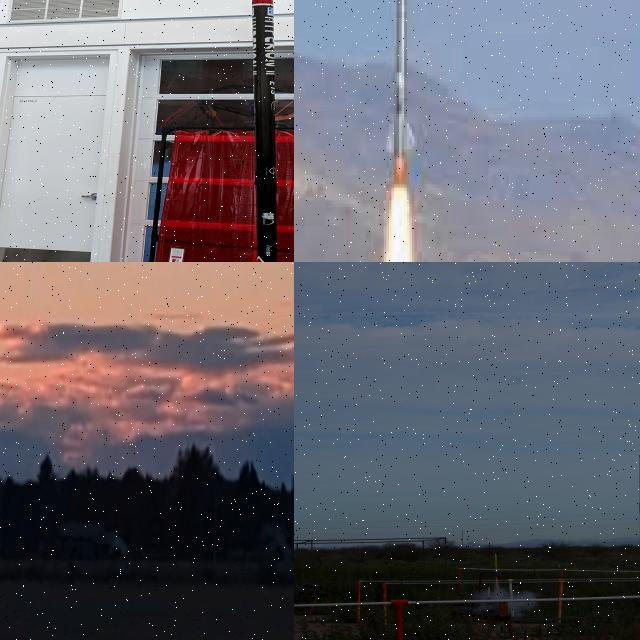Rocket: (252, 0, 278, 262), (382, 0, 419, 165), (476, 574, 484, 599), (493, 552, 500, 578), (487, 584, 491, 601)
